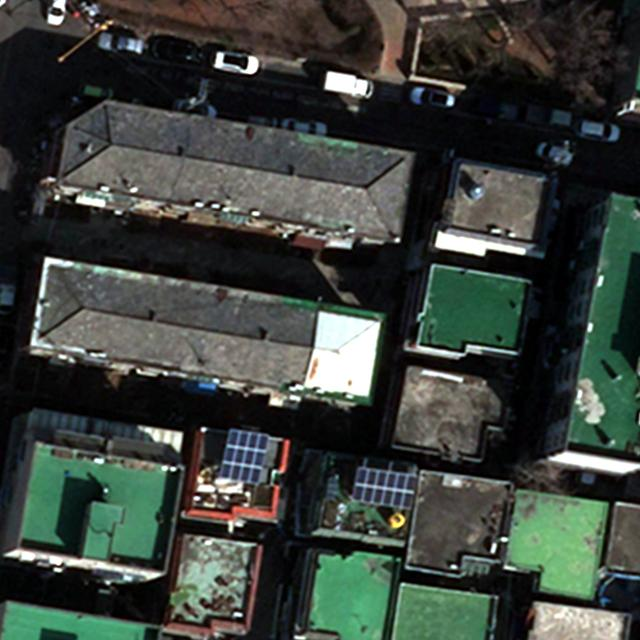panel: (219, 425, 272, 486), (351, 466, 420, 509)
